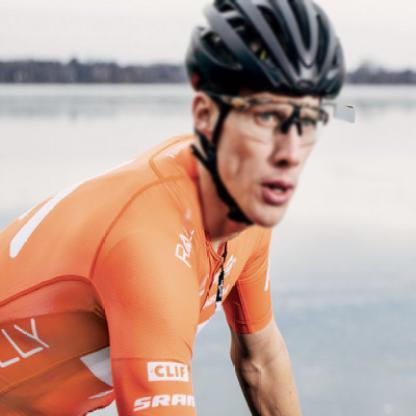With Helmet: (180, 0, 348, 231)
